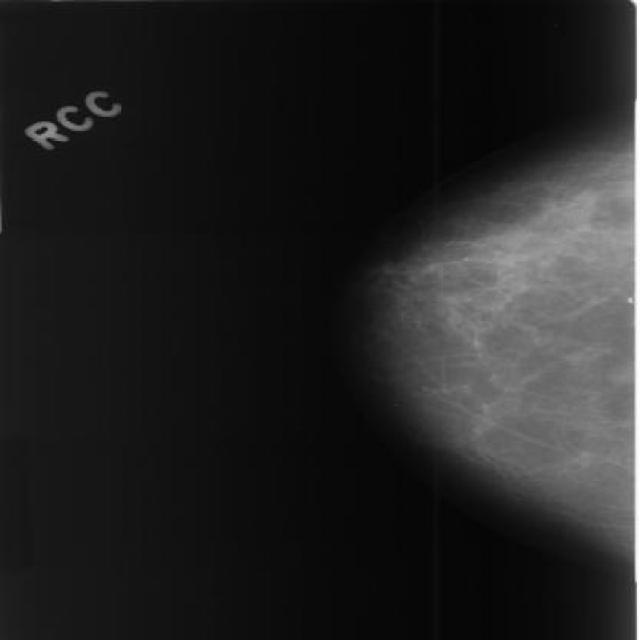tumor: (409, 202, 626, 324)
